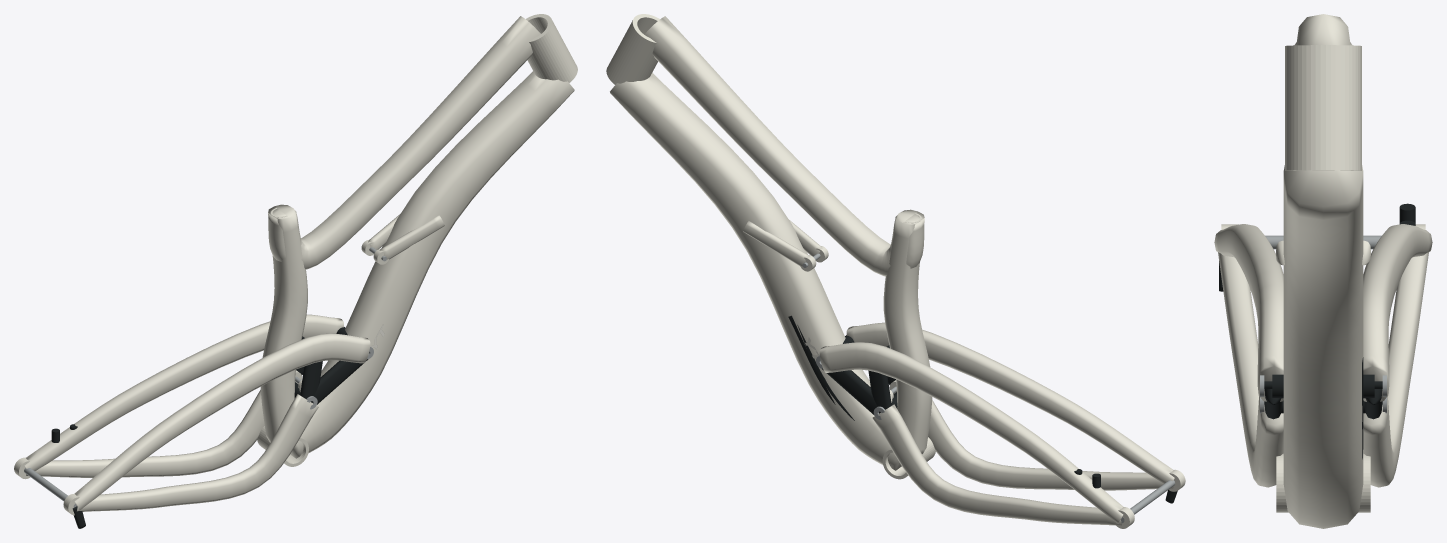
File: yt-tues-mk4-carbon--8c4f593e.glb
3 views of the same model, side by side, from view 1: azimuth 30°, elevation 25°; view 2: azimuth 150°, elevation 25°; view 3: azimuth 270°, elevation 25° (orthographic). The views are drawn at different scales.
Parts seen in each view (by area): view 1: yt-tues-mk4-carbon__paint_0, yt-tues-mk4-carbon__detail_0, yt-tues-mk4-carbon__detail_1; view 2: yt-tues-mk4-carbon__paint_0, yt-tues-mk4-carbon__detail_0, yt-tues-mk4-carbon__detail_1; view 3: yt-tues-mk4-carbon__paint_0, yt-tues-mk4-carbon__detail_0, yt-tues-mk4-carbon__detail_1.
Boxes of the visible parts, x1,y1,x2,y2 form: yt-tues-mk4-carbon__paint_0: (14, 14, 577, 515); yt-tues-mk4-carbon__detail_0: (51, 327, 368, 528); yt-tues-mk4-carbon__detail_1: (24, 247, 386, 507); yt-tues-mk4-carbon__paint_0: (606, 14, 1185, 528); yt-tues-mk4-carbon__detail_0: (788, 315, 1177, 503); yt-tues-mk4-carbon__detail_1: (802, 253, 1175, 523); yt-tues-mk4-carbon__paint_0: (1214, 14, 1432, 528); yt-tues-mk4-carbon__detail_0: (1219, 203, 1415, 459); yt-tues-mk4-carbon__detail_1: (1260, 235, 1386, 413).
Bounding box in the file's own units: 1.02 × 0.7165 × 0.1919.
Materials: 5 (2 with a texture image).
